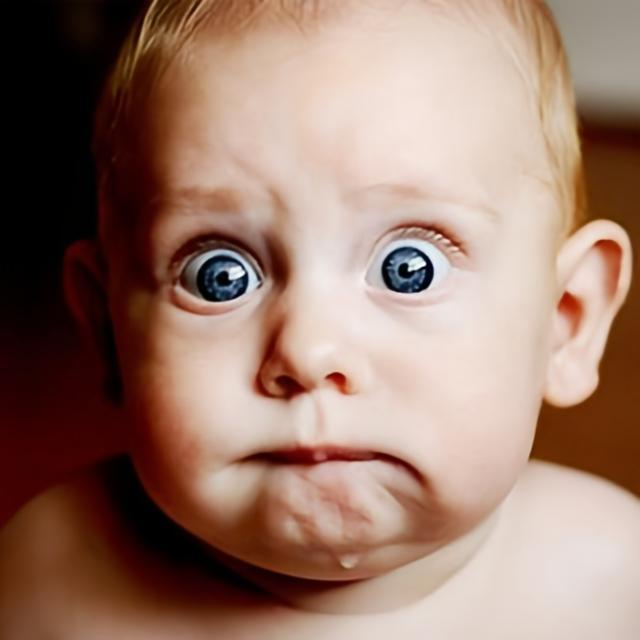fear: (98, 0, 554, 581)
